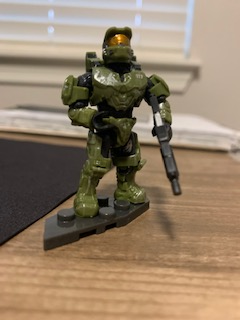chief: (57, 26, 176, 219)
rifle: (147, 92, 184, 200)
spartan: (55, 24, 174, 217)
